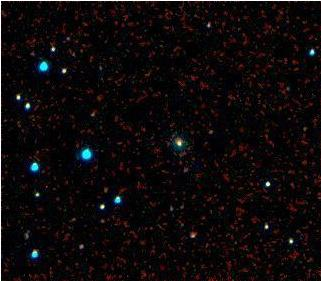star: (289, 113, 319, 143)
